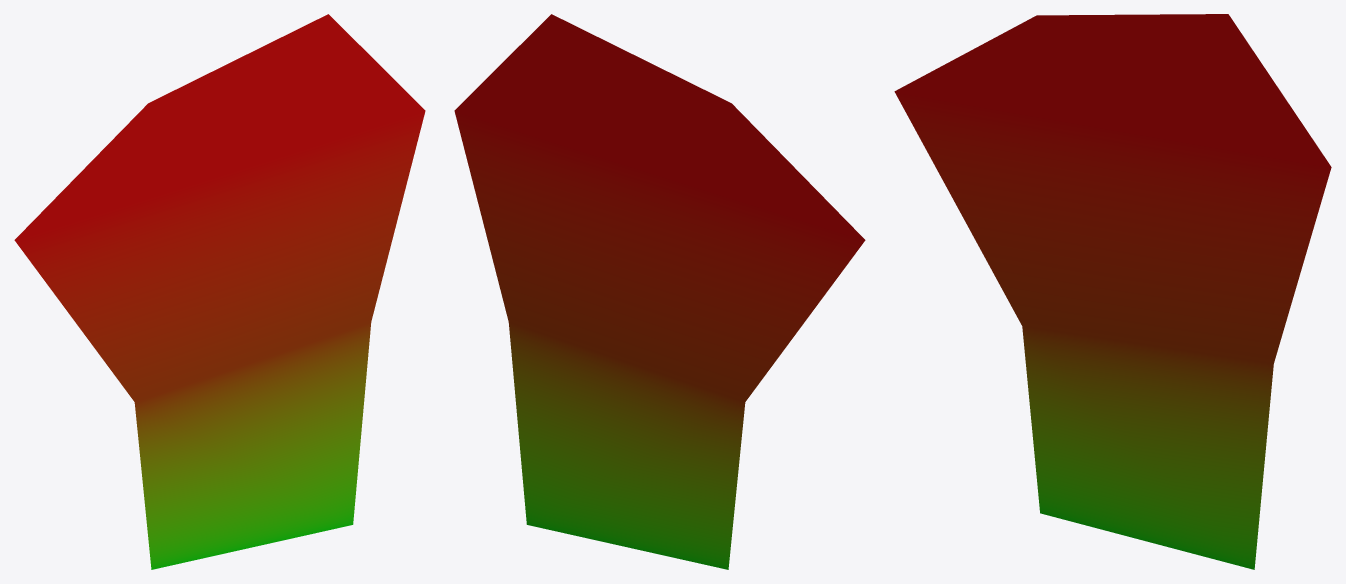
File: Cotton Grass_LOD4_Var11_wlykecdia.fbx
3 renders of one model, left to right at view 1: azimuth 30°, elevation 25°; view 2: azimuth 150°, elevation 25°; view 3: azimuth 330°, elevation 25°, orthographic. The views are drawn at different scales.
Visible parts, largest first — view 1: _9ysy_Var11_LOD4; view 2: _9ysy_Var11_LOD4; view 3: _9ysy_Var11_LOD4.
Boxes of the visible parts, box(x1,y1,x2,y2) form: _9ysy_Var11_LOD4: box(14, 14, 425, 569); _9ysy_Var11_LOD4: box(454, 14, 865, 569); _9ysy_Var11_LOD4: box(894, 14, 1331, 569).
Bounding box in the file's own units: 18.43 × 22.14 × 1.78e-07.
